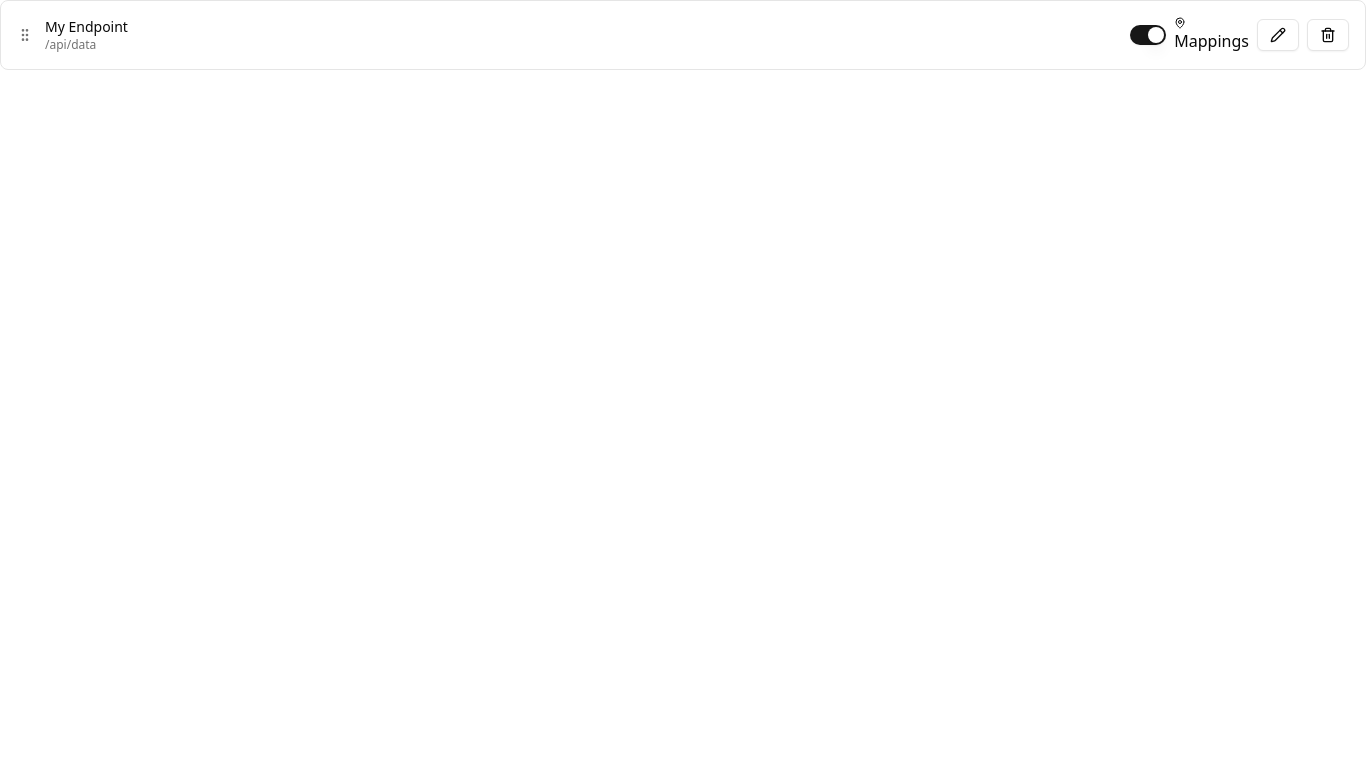
Test: DEL-06: EndpointCard 409 toast with canvas names › closes the dialog on successful deletion
What coordinates should you click on to do the following:
click the button named "Delete My Endpoint"
I would click on:
 (1328, 35)
Its box is [1307,19,1349,51].
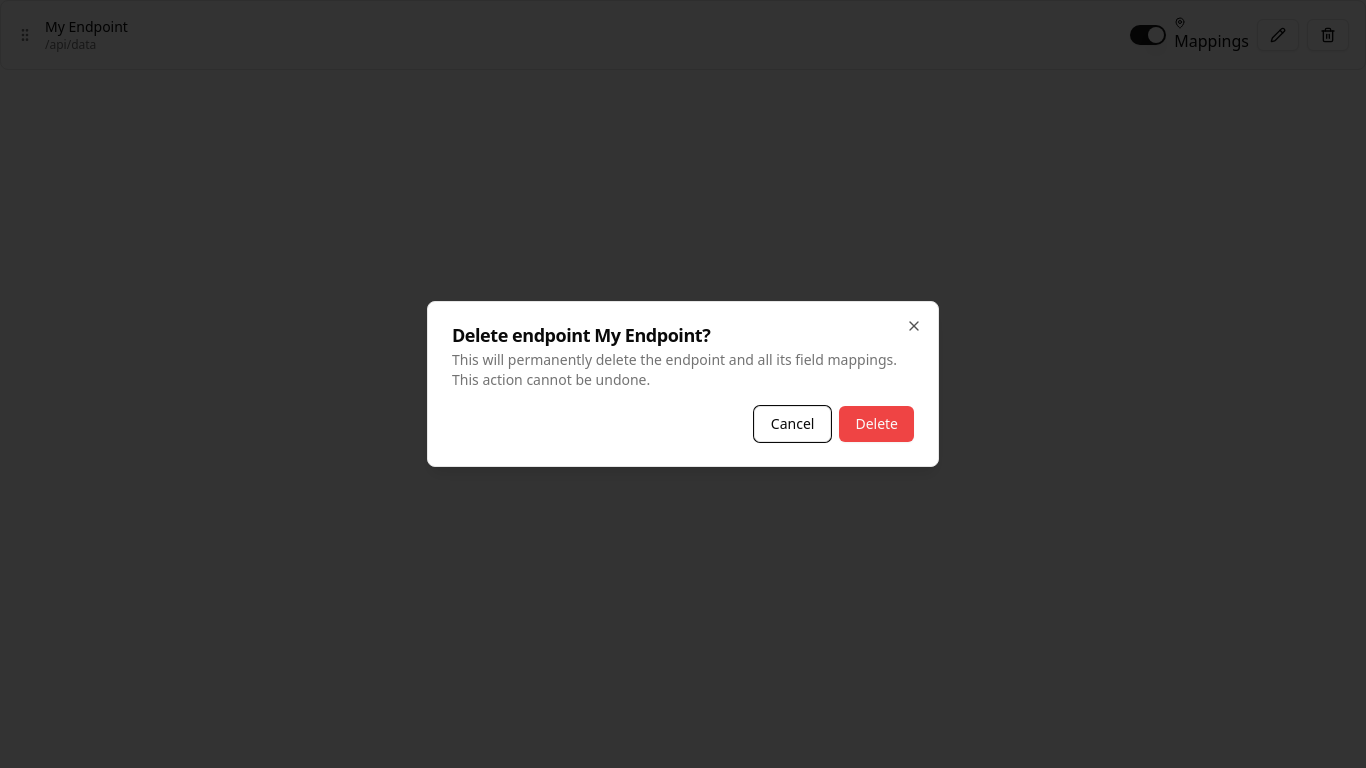
Now the heading "Delete endpoint My Endpoint?" is shown, box [452,323,710,347]
What coordinates should you click on to do the following:
click the button "Delete"
I would click on:
 (877, 424)
Its box is [839,406,914,442].
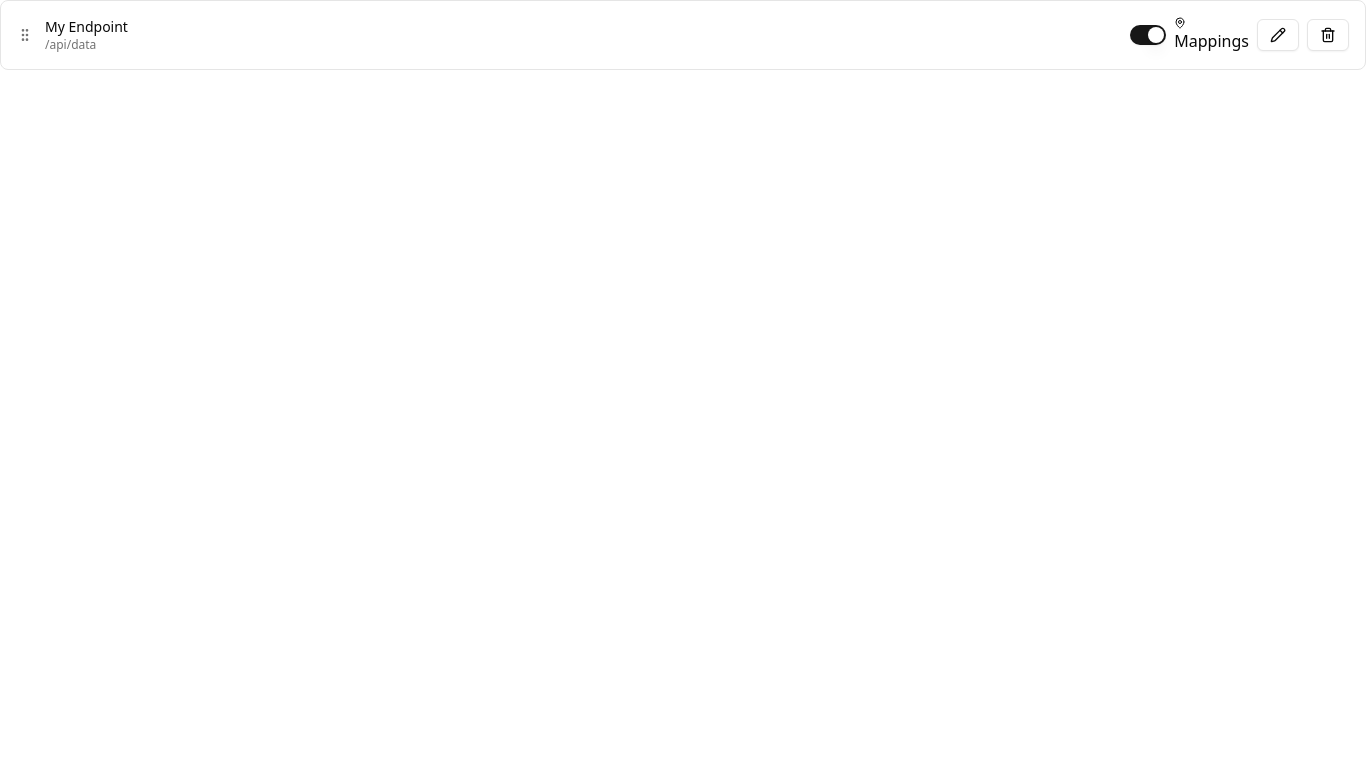
Now the heading "Delete endpoint My Endpoint?" is gone
